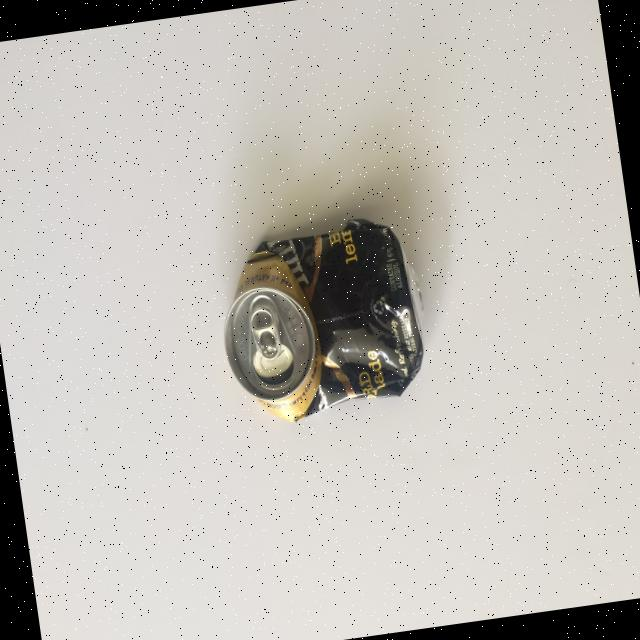metal: (209, 209, 439, 432)
